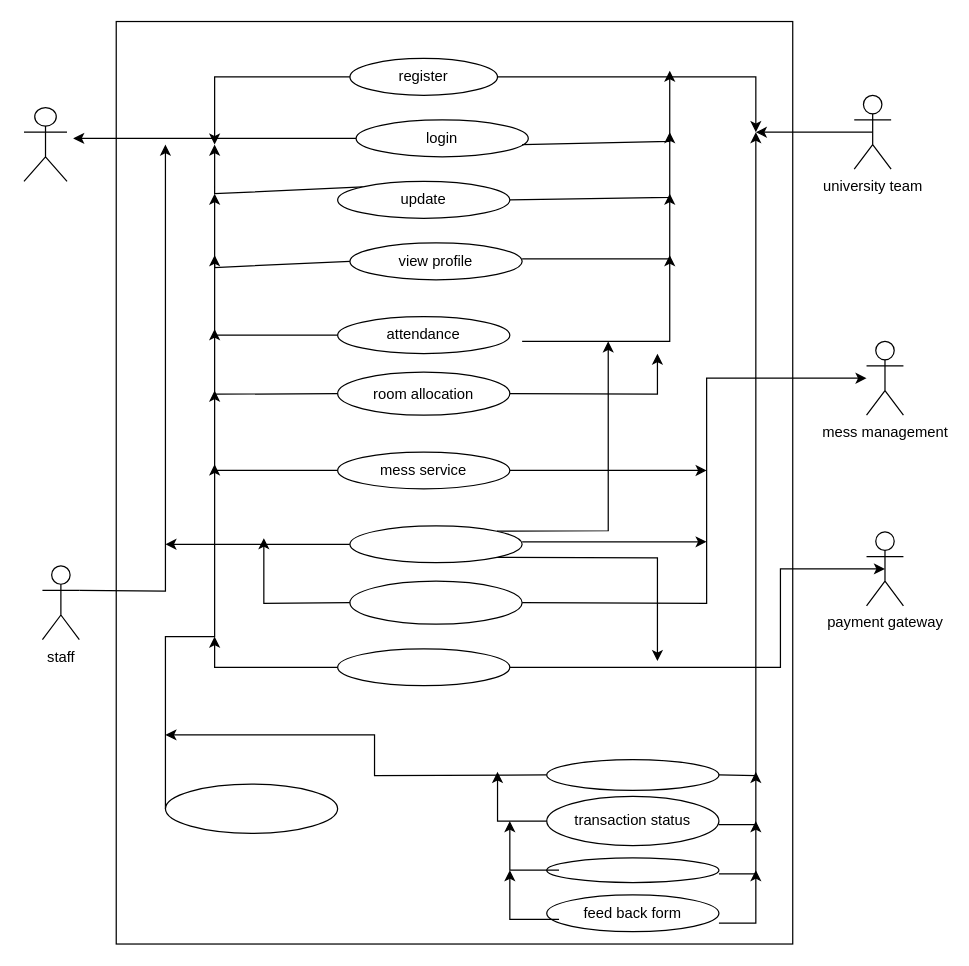
Image size: 969x966. Some labels were removed from this diagram. Here are the shapes that lost their labels. From the top down, the centre of each, then its label:
(x=45, y=143): student
(x=435, y=544): salary
(x=435, y=602): application leave/stay
(x=423, y=667): pay fee/fine
(x=632, y=774): verify payment
(x=251, y=808): suggestions
(x=632, y=870): E-reciept
